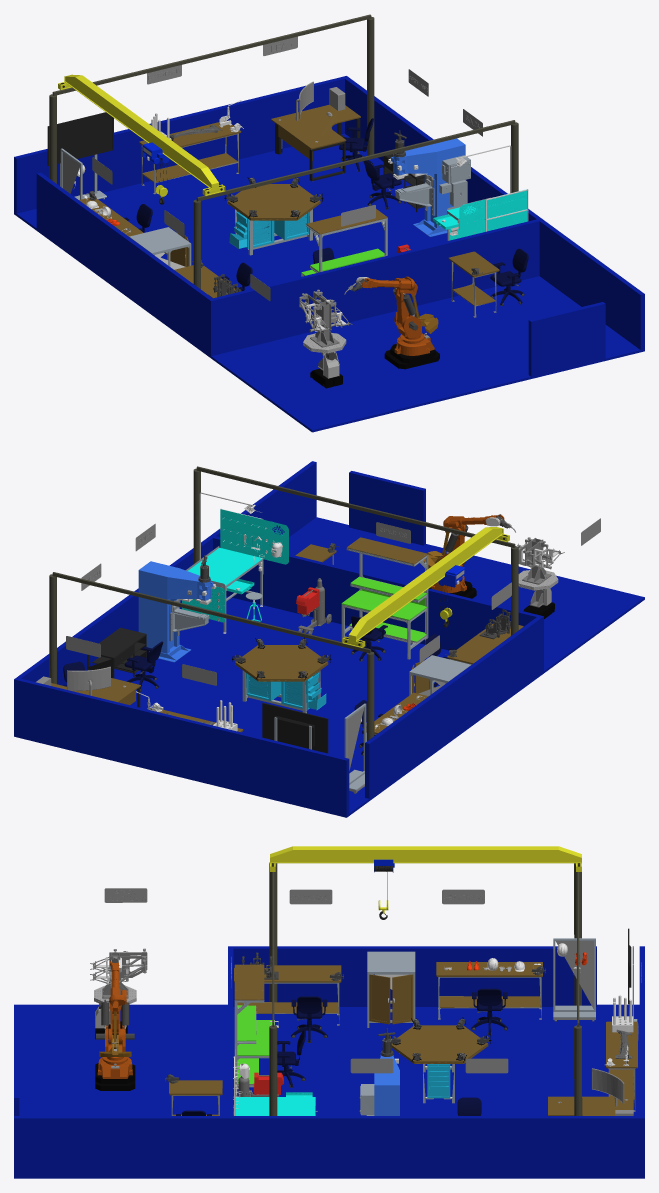
File: cta3.glb
3 renders of one model, top to bottom at view 1: azimuth 30°, elevation 25°; view 2: azimuth 150°, elevation 25°; view 3: azimuth 270°, elevation 25°, orthographic. The views are drawn at different scales.
Visible parts, largest first — view 1: CTA3; view 2: CTA3; view 3: CTA3.
Boxes of the visible parts, x1,y1,x2,y2 form: CTA3: [14, 14, 644, 432]; CTA3: [14, 461, 644, 817]; CTA3: [14, 846, 644, 1178].
Size of the model in its own units: 38 by 17.68 by 59.
